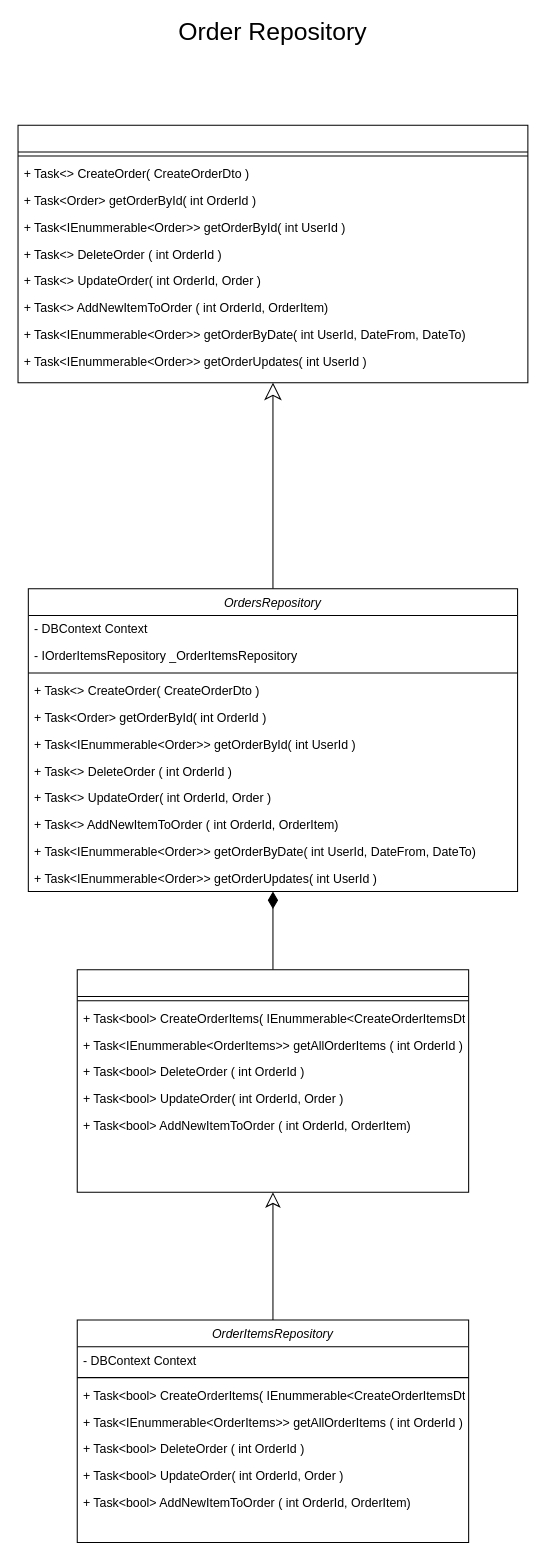
This 546x1560 diagram has some shape labels left out. Each missing label, with the box of its shape:
IOrderItemsRepository: (76, 969, 469, 1192)
iOrdersRepository: (17, 124, 528, 383)
